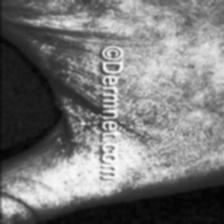Toxin: (66, 106, 93, 139), (134, 119, 148, 134)
